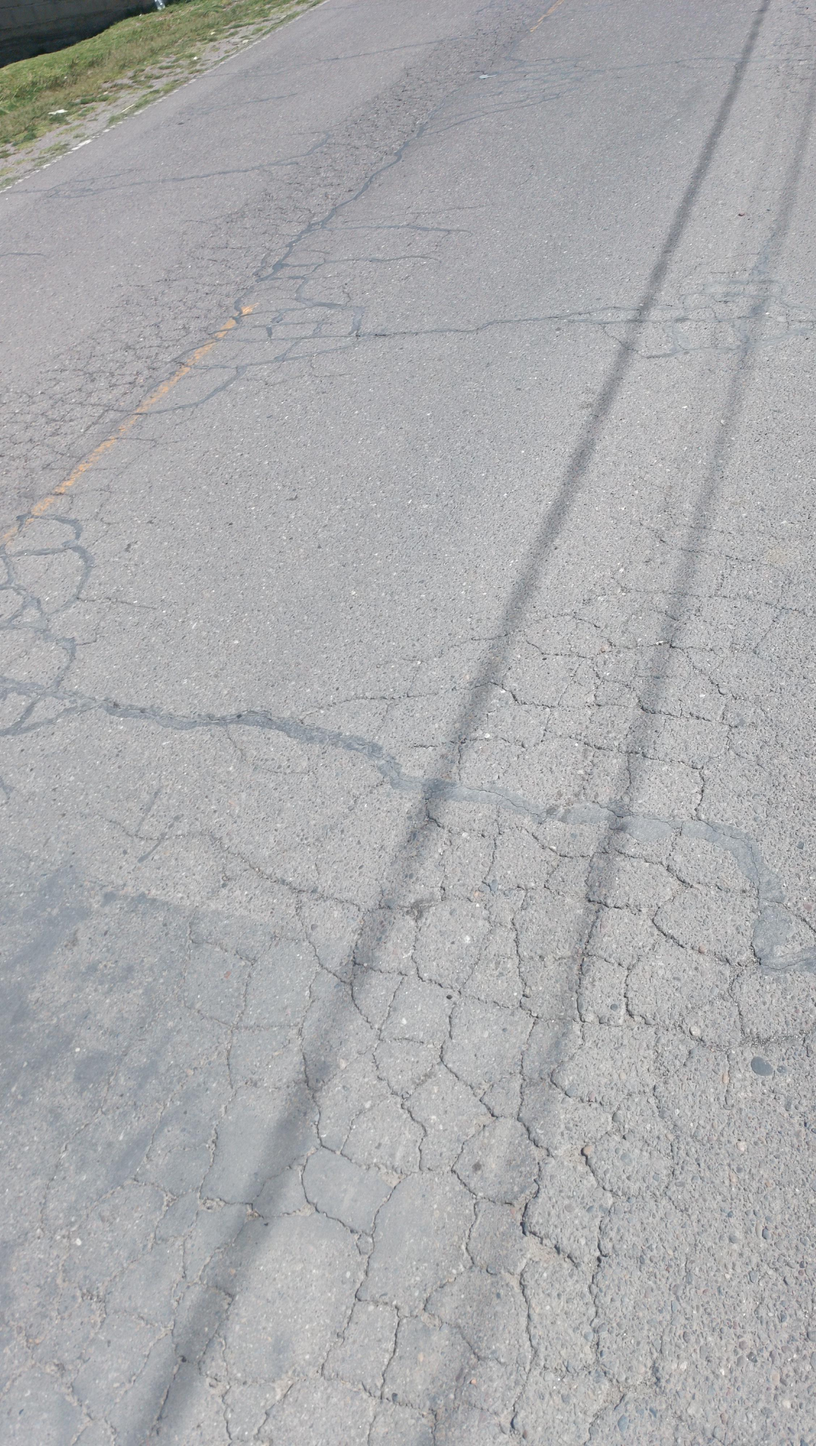GRIETA: (377, 313, 587, 337), (72, 694, 224, 725)
PIEL DE COCODRILO: (1, 504, 816, 1446), (0, 176, 378, 755), (279, 47, 494, 201), (585, 255, 810, 375), (410, 55, 590, 142), (733, 28, 816, 99)
